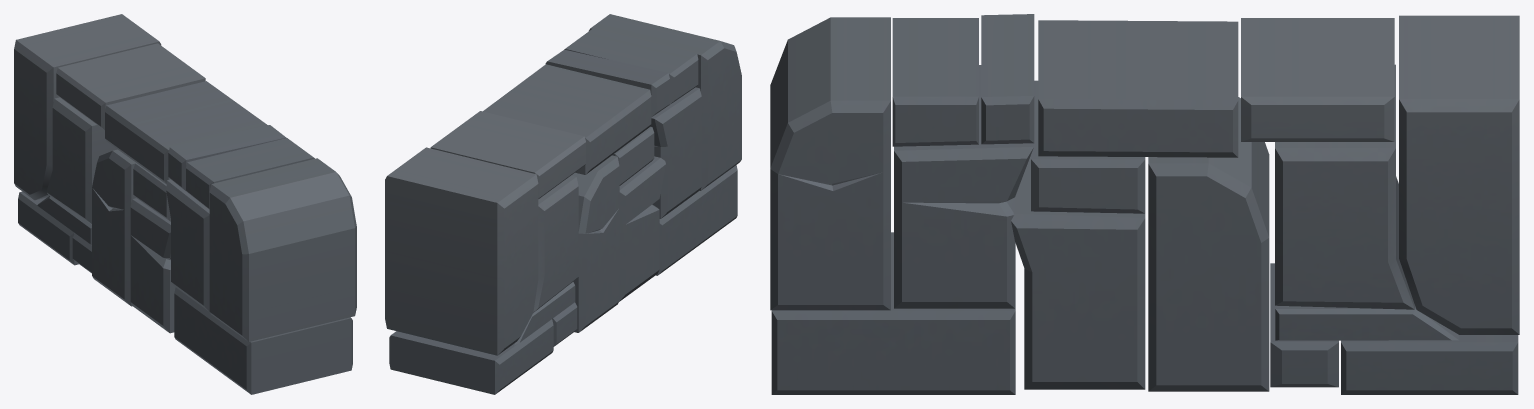
File: muro4.fbx
3 renders of one model, left to right at view 1: azimuth 30°, elevation 25°; view 2: azimuth 150°, elevation 25°; view 3: azimuth 270°, elevation 25°, orthographic. The views are drawn at different scales.
Visible parts, largest first — view 1: muro9; view 2: muro9; view 3: muro9.
Part boxes in pixels (x1=…): muro9: x1=14, y1=14, x2=356, y2=394; muro9: x1=385, y1=14, x2=741, y2=394; muro9: x1=770, y1=14, x2=1519, y2=394.
Bounding box in the file's own units: 2412 × 3778 × 8489.
